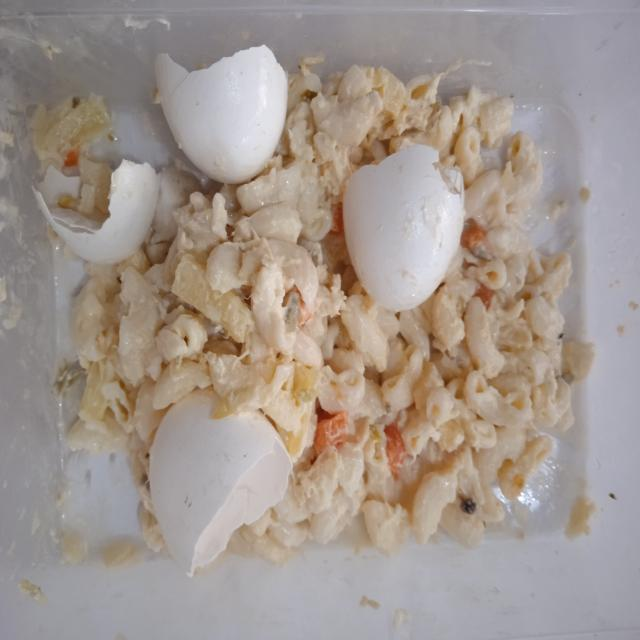egg shell: (149, 388, 292, 578), (344, 142, 466, 313), (153, 42, 290, 185), (29, 157, 160, 266)
